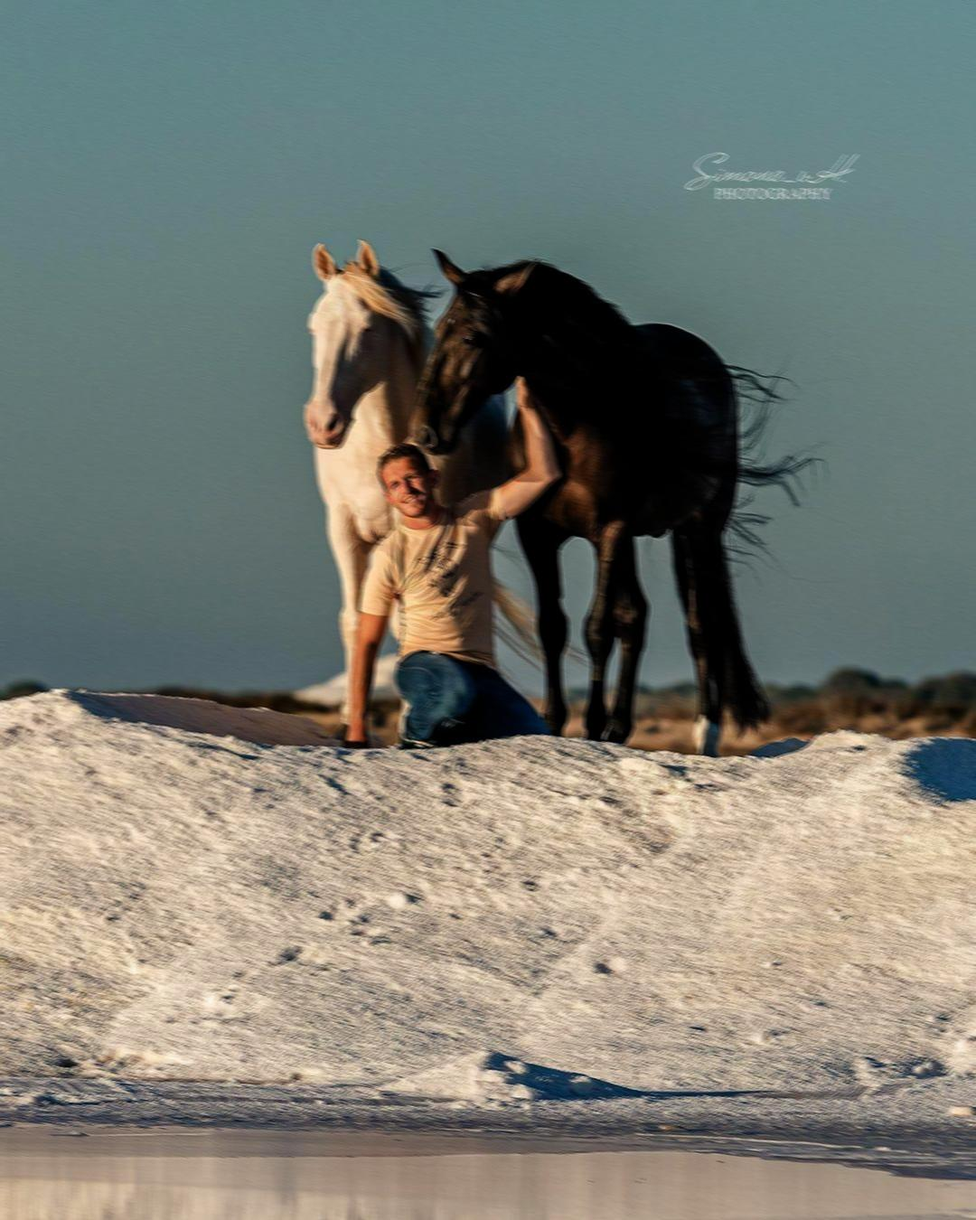horse: (404, 245, 825, 755)
